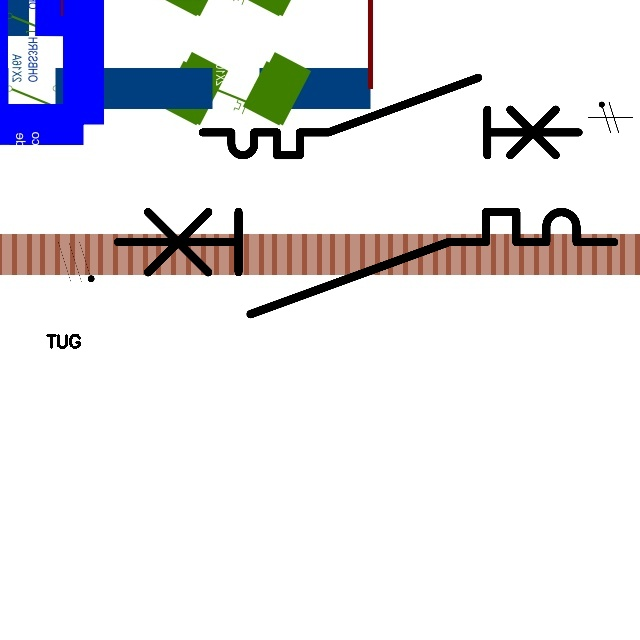interruptor_termomagnetico: (105, 199, 627, 327), (193, 68, 588, 165)
